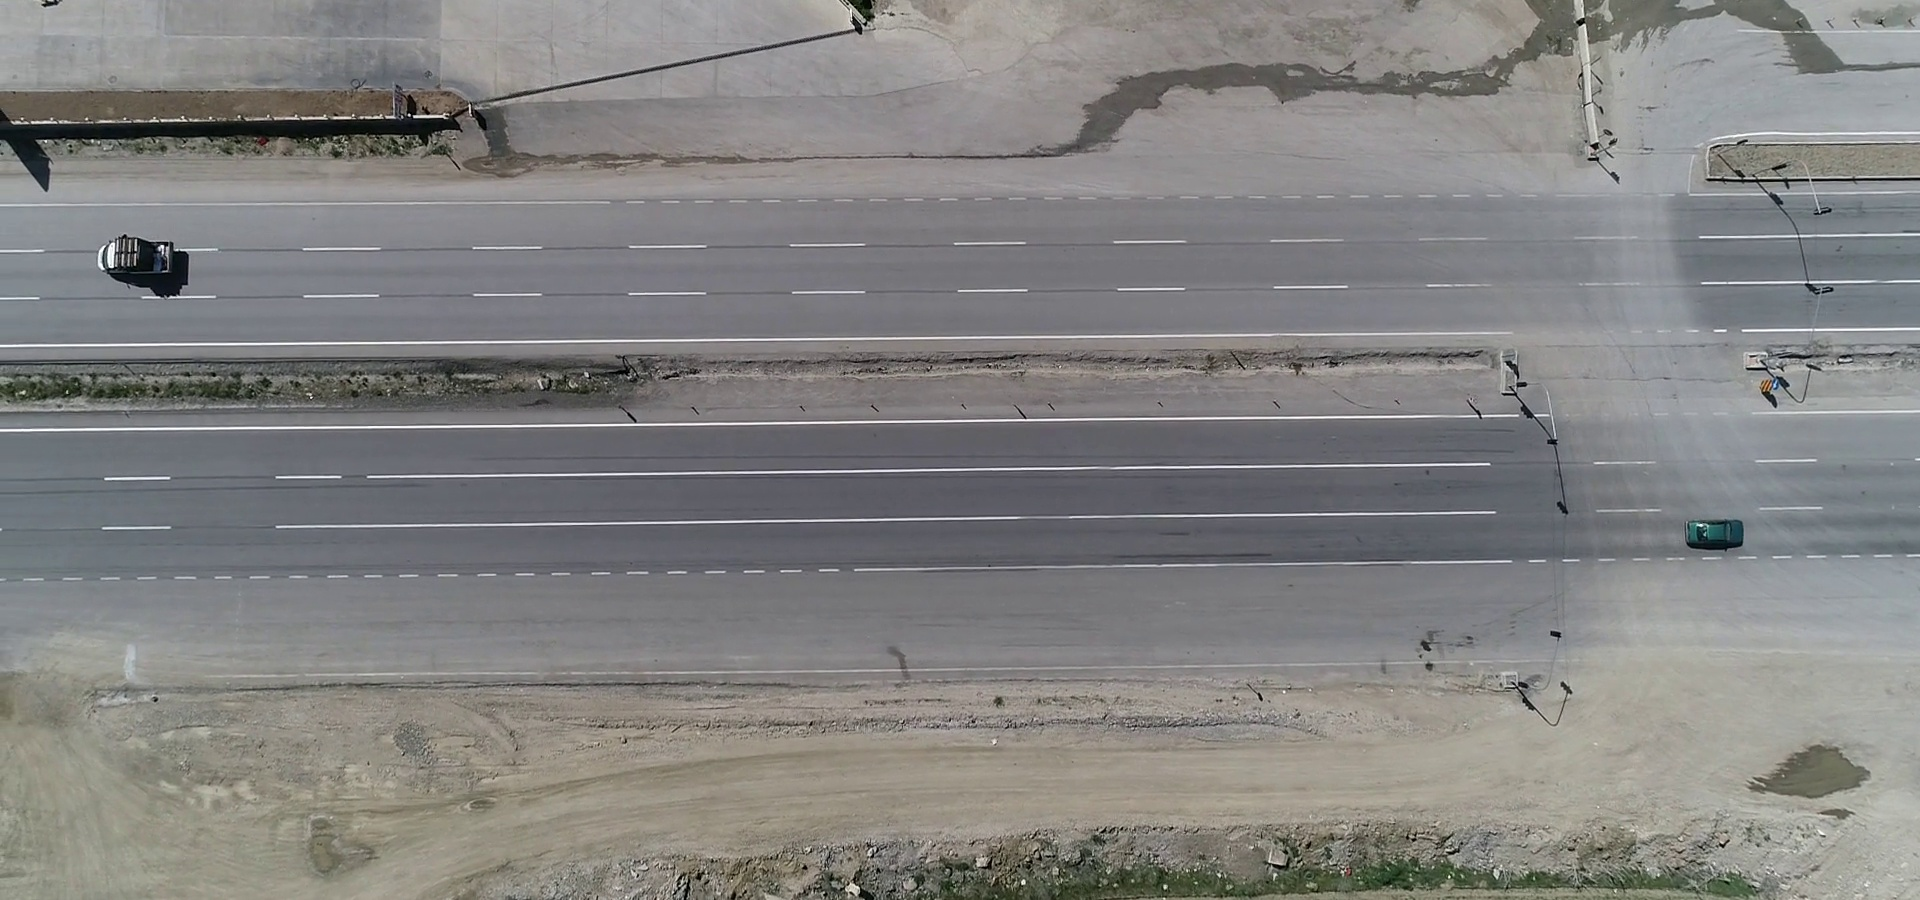araba: (1680, 517, 1755, 549)
kamyonet: (87, 231, 187, 280)
